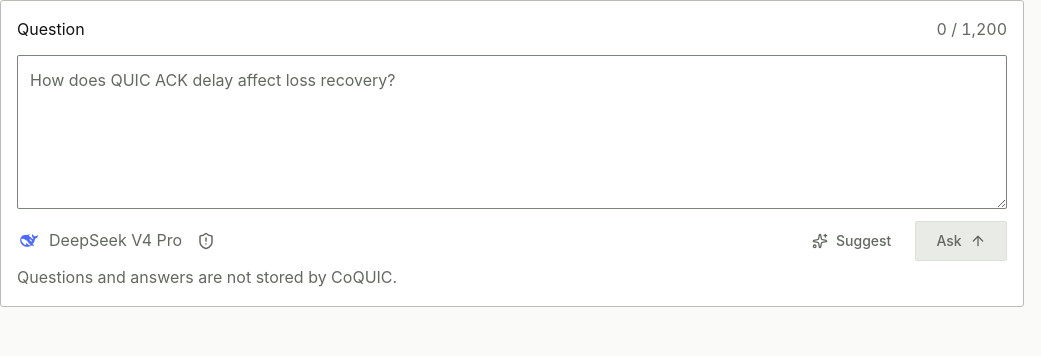
it: QA auxiliary controls › uses the random-question contract and distinguishes success, 429, and generic errors
Click the button with aria-label "Suggest question" at {"x": 851, "y": 241}, box 795,221 -> 907,261
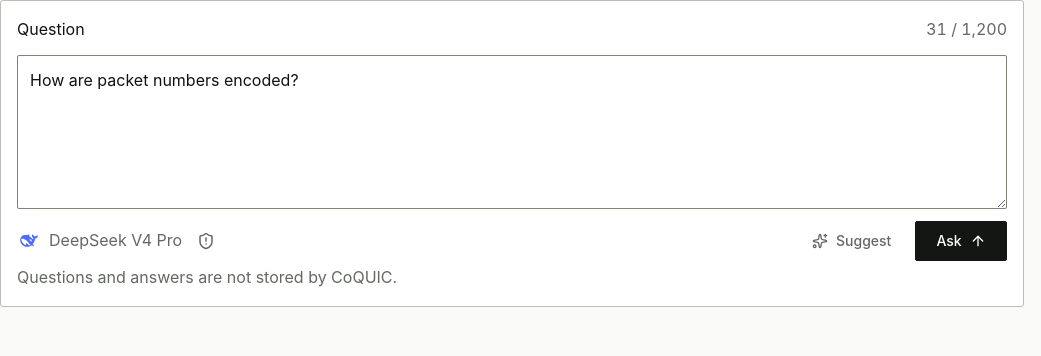
Expected: the text box labelled "Question" holds "How are packet numbers encoded?", 17,55 -> 1007,209
Click the button with aria-label "Suggest question" at {"x": 851, "y": 241}, box 795,221 -> 907,261
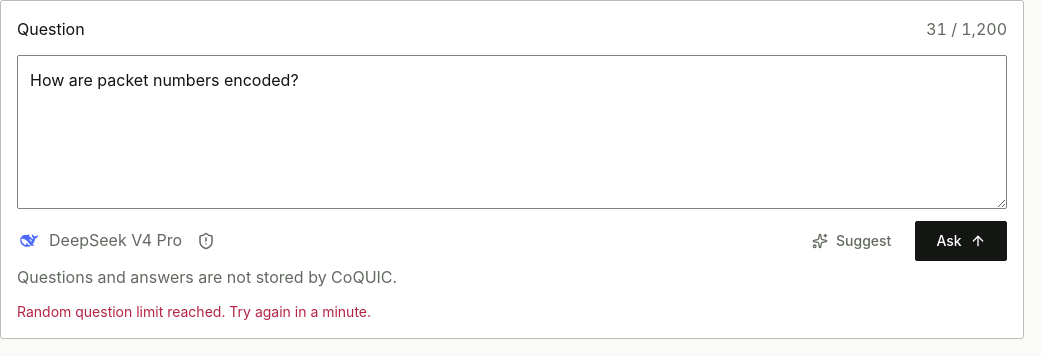
Expected: the message shows "Random question limit reached.", 17,303 -> 371,320
Click the button with aria-label "Suggest question" at {"x": 851, "y": 241}, box 795,221 -> 907,261
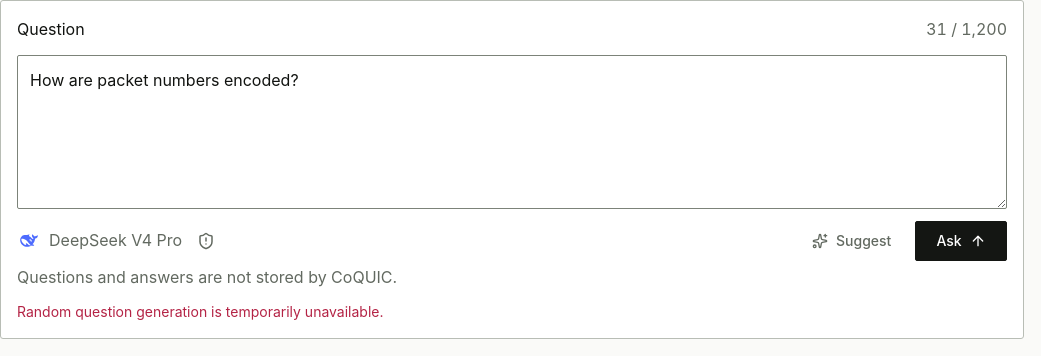
Expected: the message shows "temporarily unavailable", 17,303 -> 384,320
